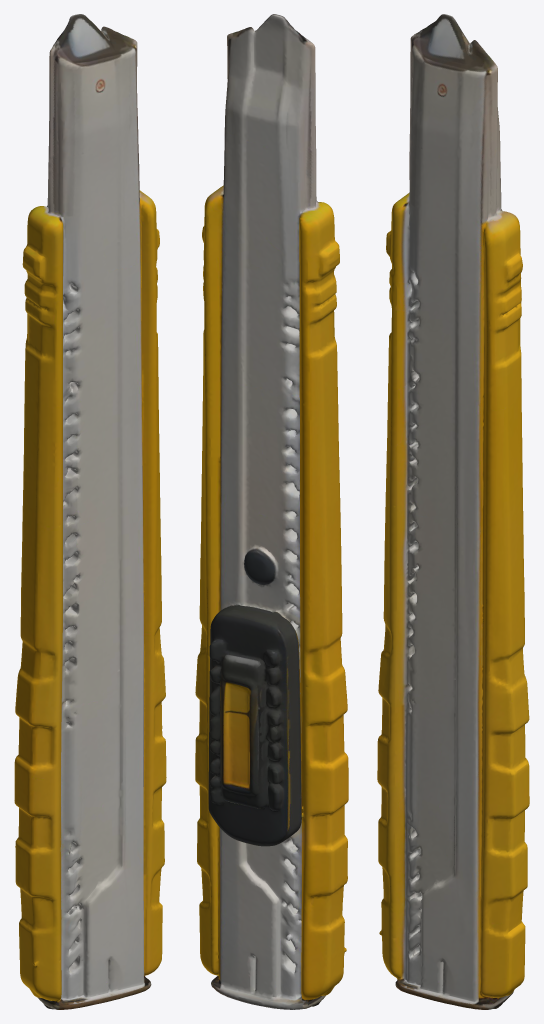
Rendered from 커터칼.glb.
3 views of the same model, side by side, from view 1: azimuth 30°, elevation 25°; view 2: azimuth 150°, elevation 25°; view 3: azimuth 330°, elevation 25° (orthographic).
Parts seen in each view (by area): view 1: tripo_node_865551c7-314c-4a2e-b66e-50875ff07628; view 2: tripo_node_865551c7-314c-4a2e-b66e-50875ff07628; view 3: tripo_node_865551c7-314c-4a2e-b66e-50875ff07628.
Boxes of the visible parts, x1,y1,x2,y2 form: tripo_node_865551c7-314c-4a2e-b66e-50875ff07628: [14, 14, 166, 1009]; tripo_node_865551c7-314c-4a2e-b66e-50875ff07628: [195, 14, 348, 1009]; tripo_node_865551c7-314c-4a2e-b66e-50875ff07628: [377, 14, 529, 1009].
Bounding box in the file's own units: 0.1468 × 1 × 0.0984.
1 material, 1 textured.
